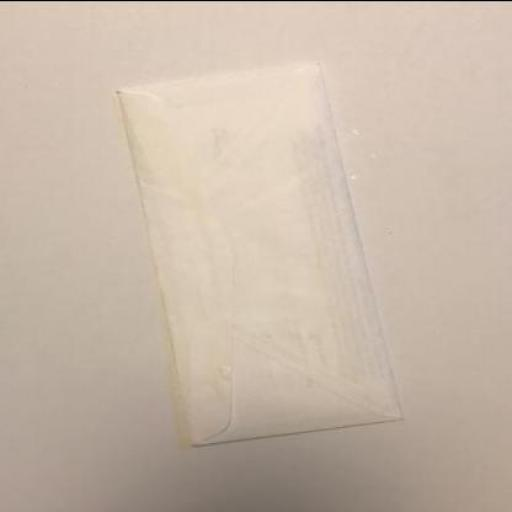paper: (118, 61, 406, 444)
